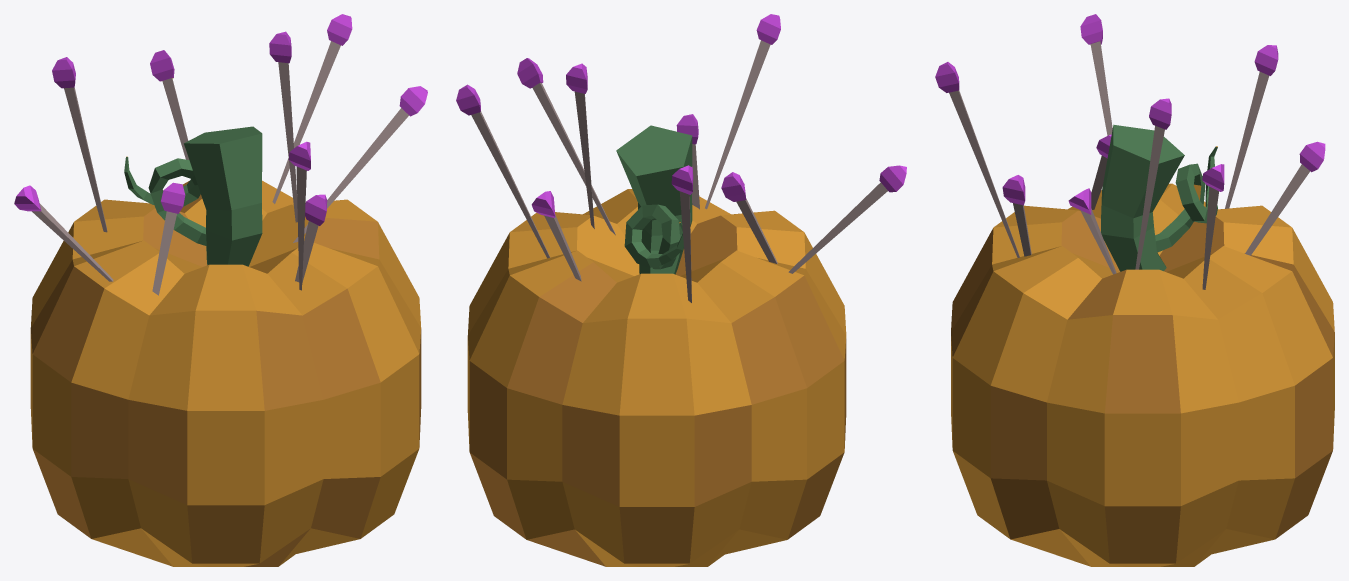
Rendered from PumpkinBlocker.fbx.
3 views of the same model, side by side, from view 1: azimuth 30°, elevation 25°; view 2: azimuth 150°, elevation 25°; view 3: azimuth 270°, elevation 25° (orthographic). The views are drawn at different scales.
Parts seen in each view (by area): view 1: Cone.001; view 2: Cone.001; view 3: Cone.001.
Boxes of the visible parts, x1,y1,x2,y2 form: Cone.001: (14, 14, 427, 566); Cone.001: (456, 14, 906, 566); Cone.001: (935, 14, 1334, 566).
Size of the model in its own units: 281 by 310 by 242.
